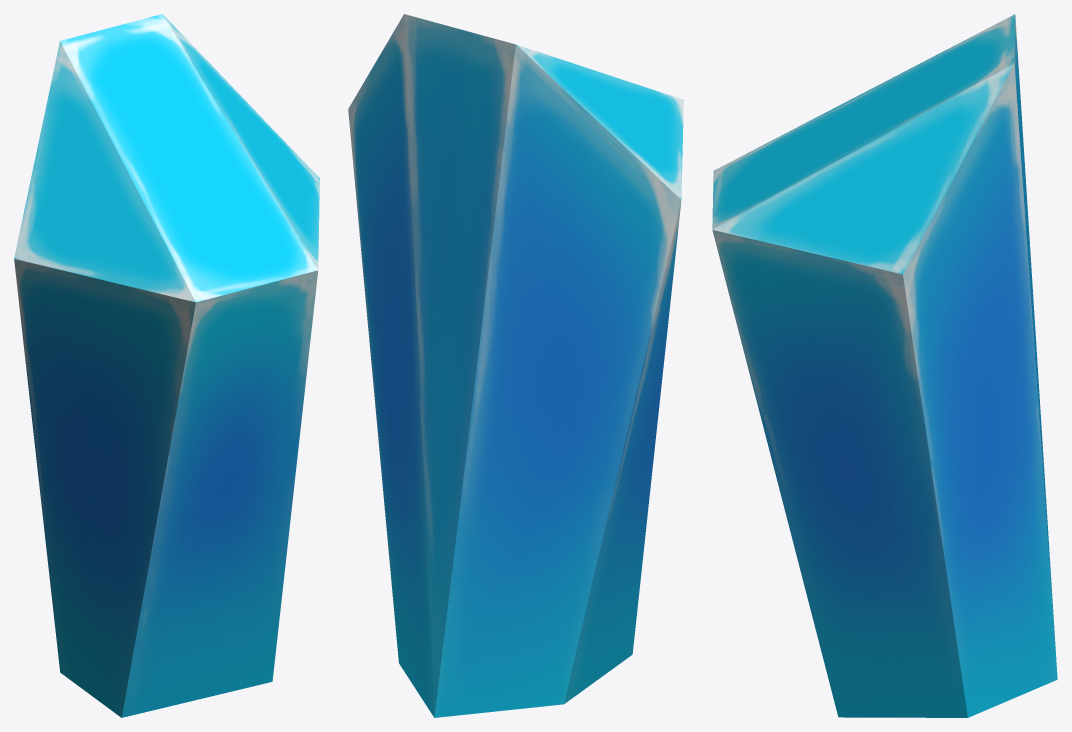
The model's file is Crystal_1.FBX.
3 renders of one model, left to right at view 1: azimuth 30°, elevation 25°; view 2: azimuth 150°, elevation 25°; view 3: azimuth 270°, elevation 25°, orthographic. The views are drawn at different scales.
Parts seen in each view (by area): view 1: Crystal_1; view 2: Crystal_1; view 3: Crystal_1.
Part boxes in pixels (x1=…): Crystal_1: x1=14, y1=14, x2=319, y2=717; Crystal_1: x1=348, y1=14, x2=683, y2=717; Crystal_1: x1=712, y1=14, x2=1057, y2=717.
Size of what is drawn, in the model's own units: 89.33 by 83.92 by 172.
